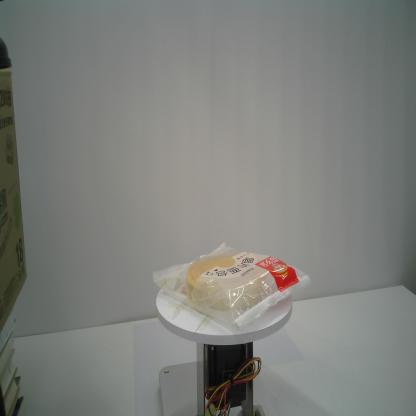Dessert: (151, 241, 312, 335)
